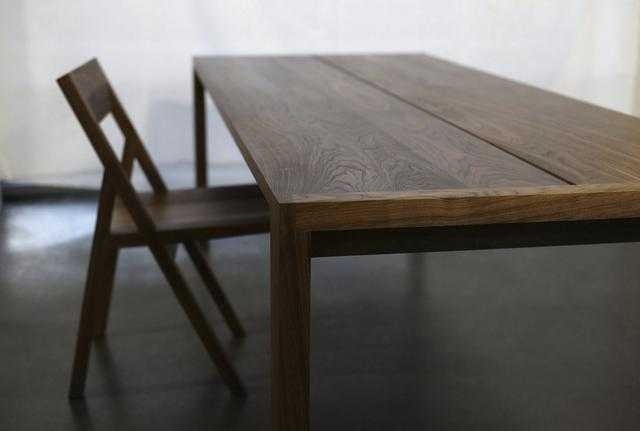obstacle: (194, 54, 639, 429), (57, 59, 268, 398)
